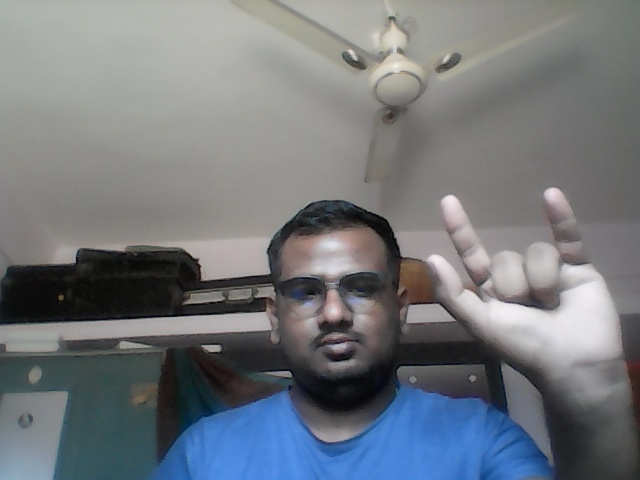I Love You: (422, 185, 629, 378)
